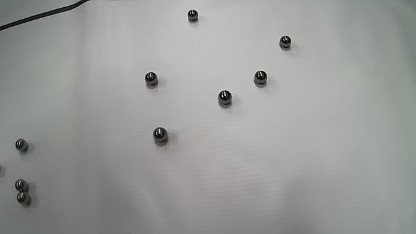ironball: (218, 90, 232, 107), (153, 127, 168, 142), (144, 72, 158, 88), (254, 70, 267, 86), (16, 191, 30, 204), (15, 139, 28, 152), (15, 178, 28, 191), (279, 35, 291, 48), (187, 9, 198, 22), (0, 165, 1, 172)
